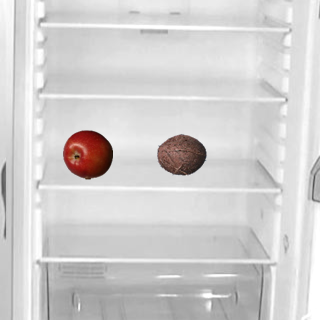Apple Braeburn: (62, 129, 112, 179)
Cocos: (156, 129, 206, 179)
